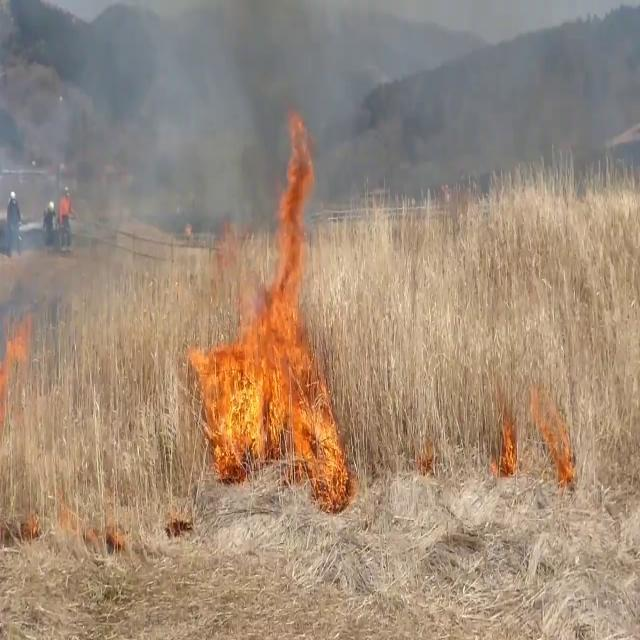Fire: (190, 104, 348, 482), (0, 304, 36, 439)
Smoke: (0, 0, 316, 279)
